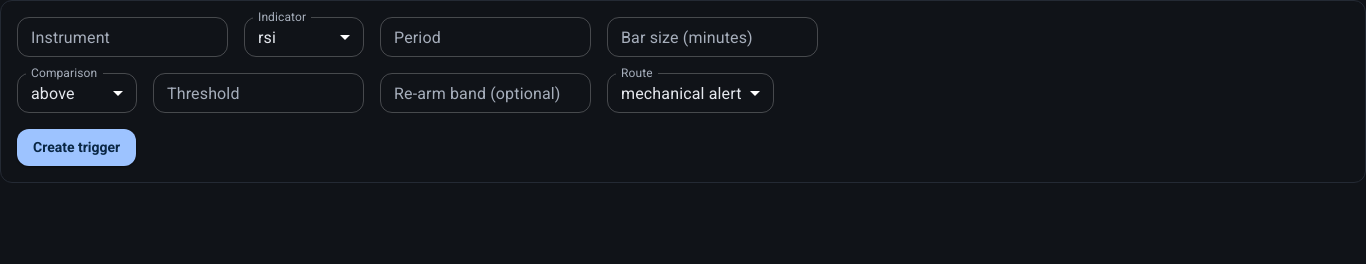
Test: TriggerForm › refuses a Re-arm band that is not a number (NaN serialises to null, the server treats null as "no band", and the create SUCCEEDS with no dead-band)
In the field labelled "Instrument": (122, 37) [17, 17, 228, 57], type "ES"
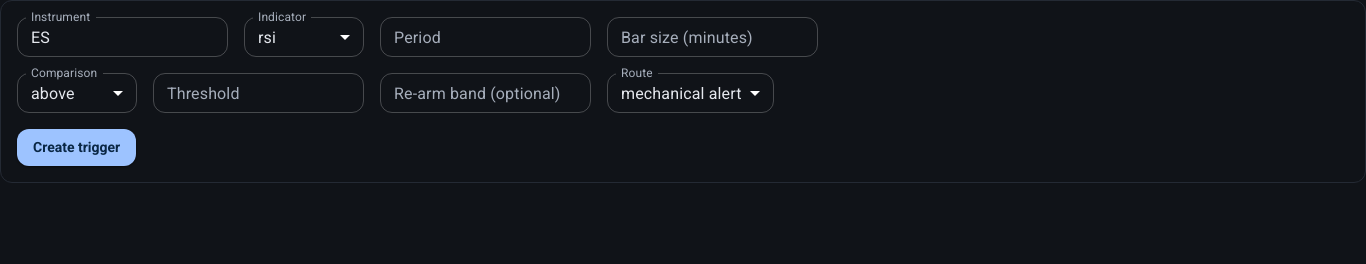
In the field labelled "Period": (486, 37) [380, 17, 591, 57], type "14"
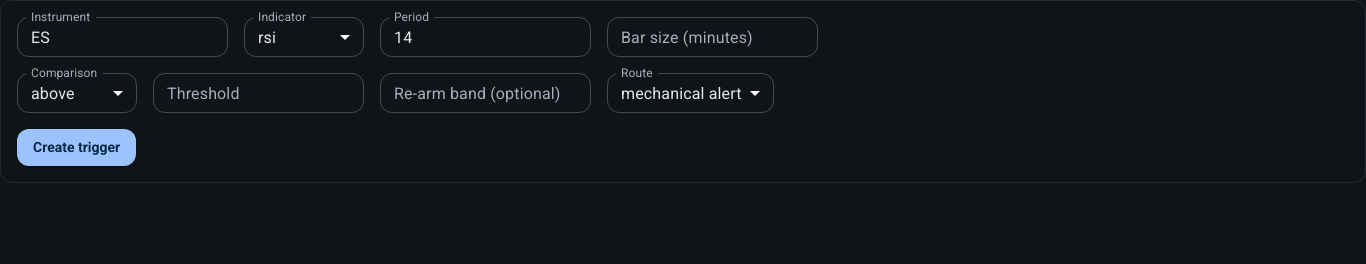
In the field labelled "Bar size (minutes)": (712, 37) [607, 17, 818, 57], type "5"
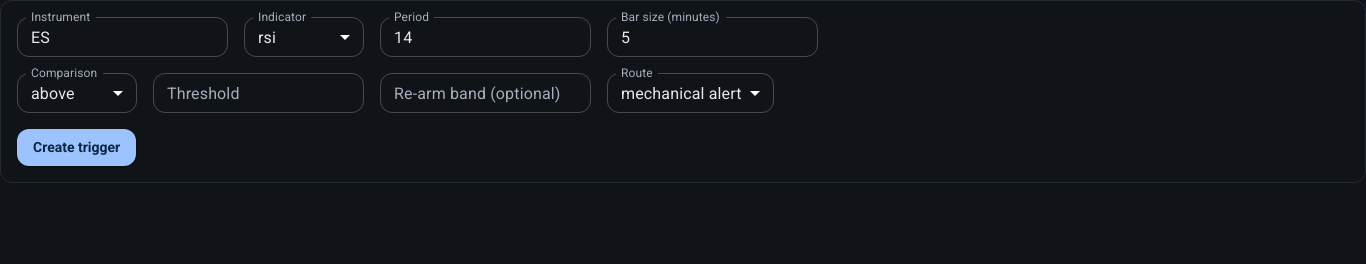
In the field labelled "Threshold": (258, 93) [153, 73, 364, 113], type "70"
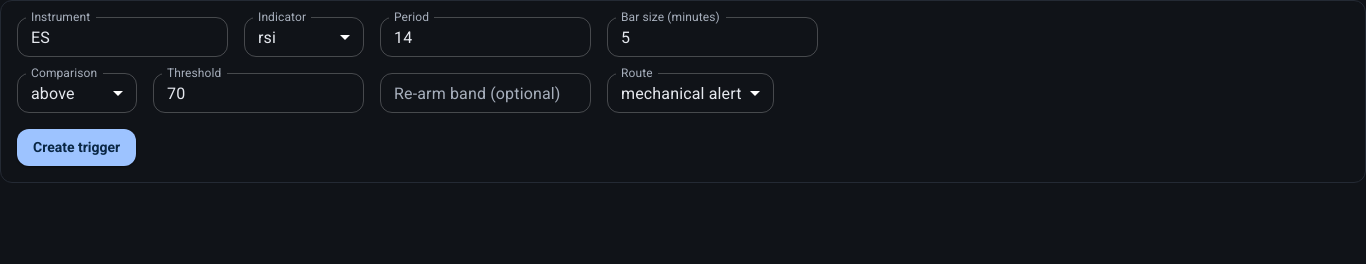
In the field labelled "Re-arm band (optional)": (486, 93) [380, 73, 591, 113], type "5o"
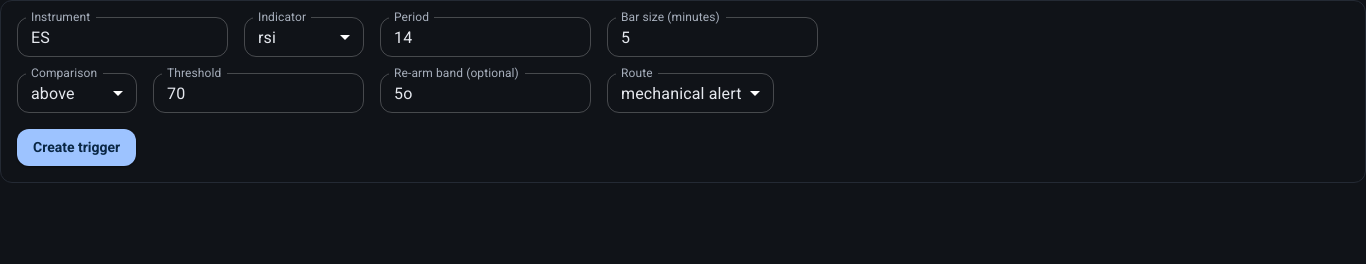
Click the button "Create trigger": (77, 147) [17, 129, 136, 166]
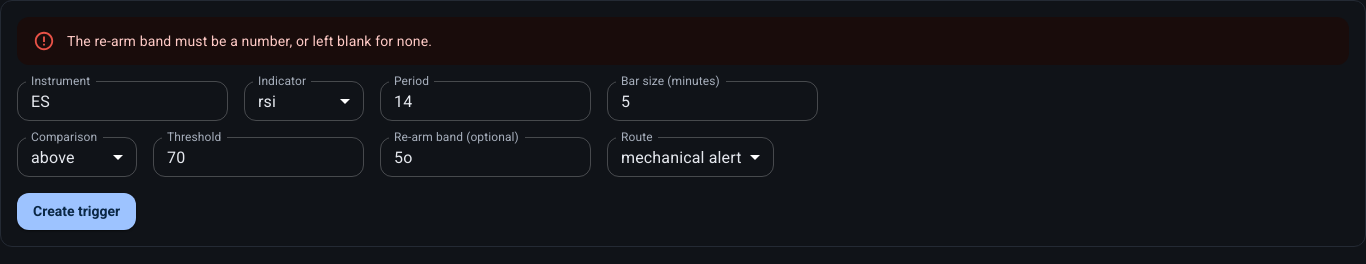
Expected: the message "The re-arm band must be a number, or left blank for none." is shown, [17, 17, 1349, 65]
